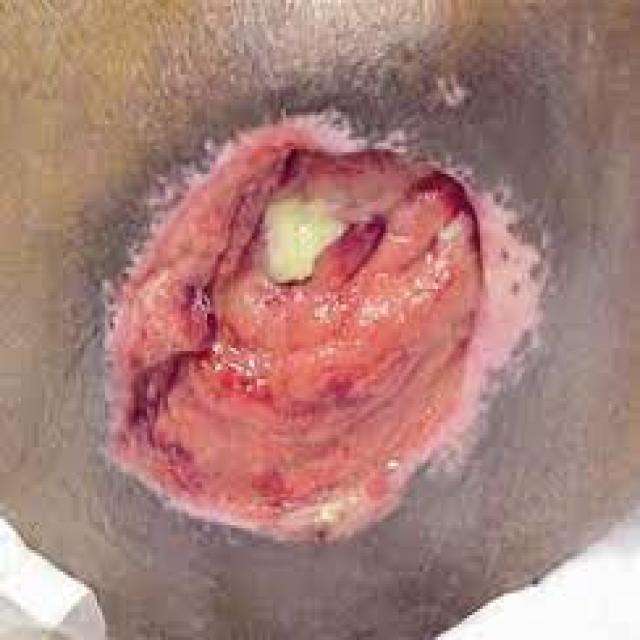stage-4: (105, 134, 484, 537)
